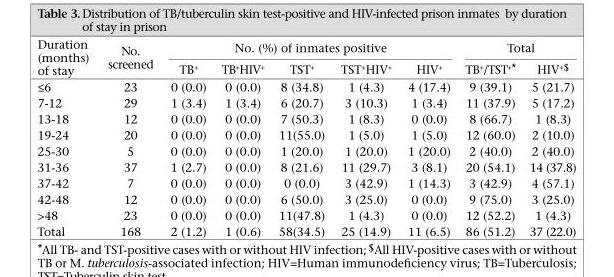table: (36, 36, 575, 238)
table column: (332, 36, 399, 238), (97, 36, 161, 238), (457, 36, 521, 238), (270, 36, 332, 238), (36, 36, 97, 238), (399, 36, 457, 238), (213, 36, 270, 238), (521, 36, 575, 238), (161, 36, 213, 238)
table column header: (36, 36, 575, 78)
table row: (36, 36, 575, 57), (36, 57, 575, 78), (36, 78, 575, 94), (36, 94, 575, 110), (36, 110, 575, 126), (36, 126, 575, 142), (36, 142, 575, 158), (36, 158, 575, 174), (36, 174, 575, 190), (36, 190, 575, 206), (36, 206, 575, 222), (36, 222, 575, 238)
table spanning cell: (161, 36, 457, 57), (97, 36, 161, 78), (36, 36, 97, 78), (457, 36, 575, 57)
